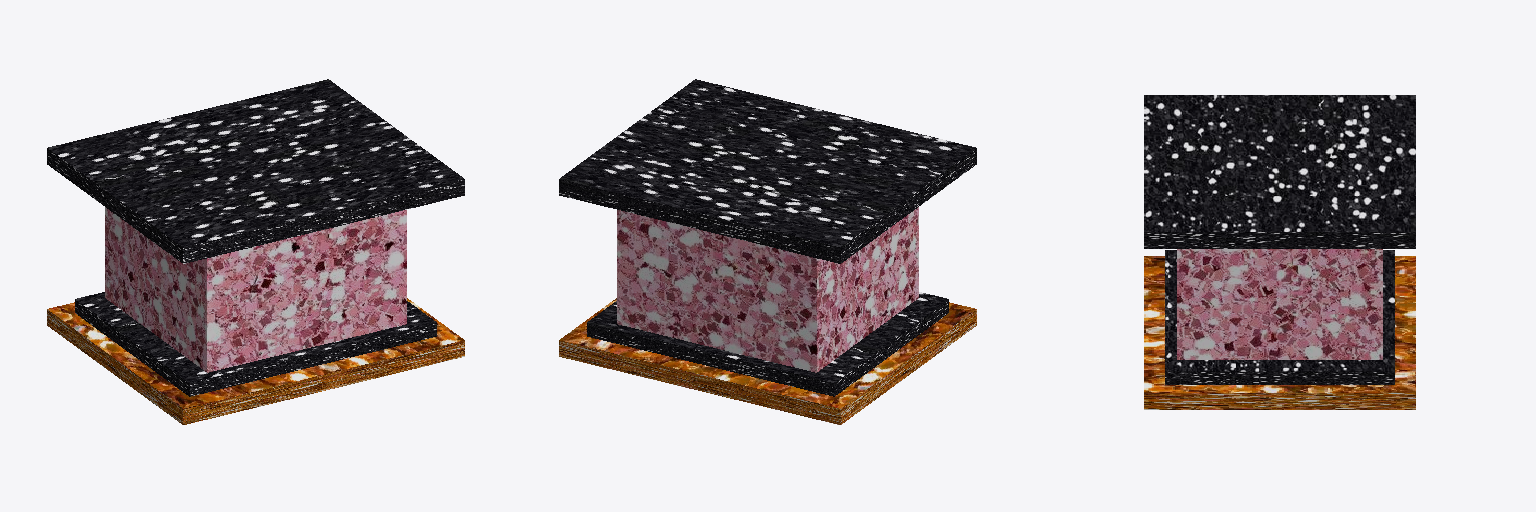
3 views of the same model, side by side, from view 1: azimuth 30°, elevation 25°; view 2: azimuth 150°, elevation 25°; view 3: azimuth 270°, elevation 25° (orthographic).
Parts seen in each view (by area): view 1: Cube.004, Cube.001, Cube, Cube.002; view 2: Cube.004, Cube.001, Cube, Cube.002; view 3: Cube.004, Cube.001, Cube, Cube.002.
Boxes of the visible parts, box(x1,y1,x2,y2) form: Cube.004: box(47, 79, 464, 263); Cube.001: box(105, 207, 406, 372); Cube: box(47, 298, 464, 424); Cube.002: box(75, 292, 436, 396); Cube.004: box(559, 79, 976, 263); Cube.001: box(617, 207, 918, 372); Cube: box(559, 298, 976, 424); Cube.002: box(587, 292, 948, 396); Cube.004: box(1144, 95, 1415, 248); Cube.001: box(1177, 249, 1382, 359); Cube: box(1144, 256, 1415, 409); Cube.002: box(1165, 250, 1394, 384).
Size of the model in its own units: 9.73 by 6.12 by 8.16.
Materials: 5 (3 with a texture image).